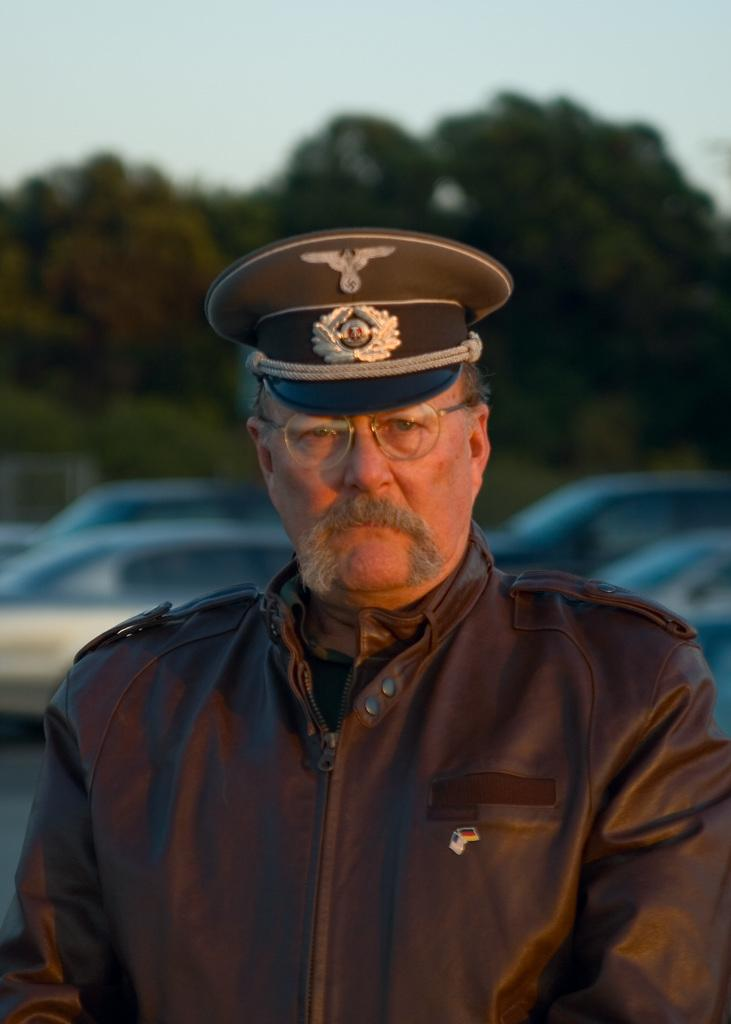Hat: (205, 225, 515, 416)
